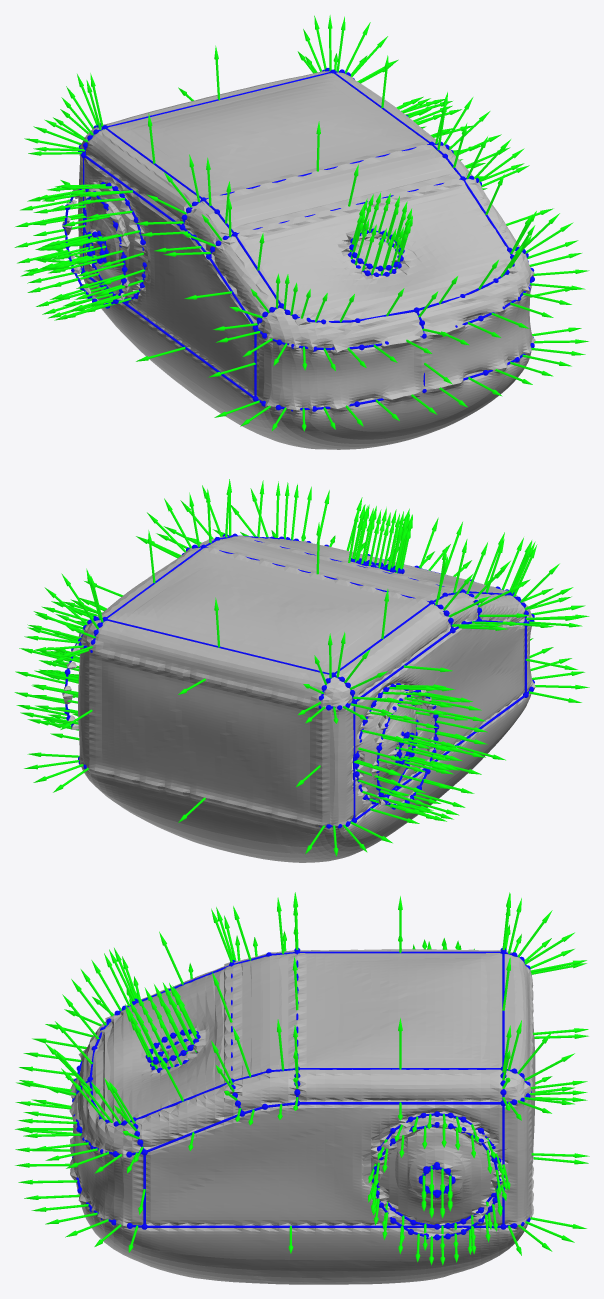
Rendered from onshape_vacuum.gltf.
3 views of the same model, one above another, from view 1: azimuth 30°, elevation 25°; view 2: azimuth 150°, elevation 25°; view 3: azimuth 270°, elevation 25° (orthographic). The views are drawn at different scales.
Bounding box in the file's own units: 0.8155 × 0.4968 × 0.9422.
